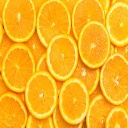orange: (24, 70, 58, 120), (59, 78, 90, 124)
